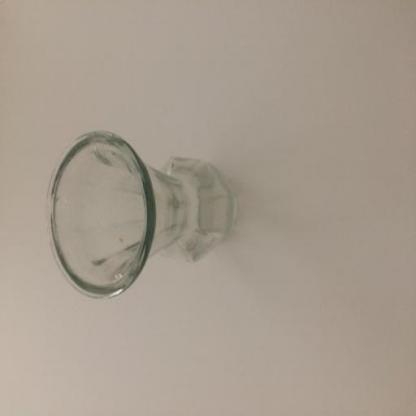Glass: (49, 132, 236, 297)
